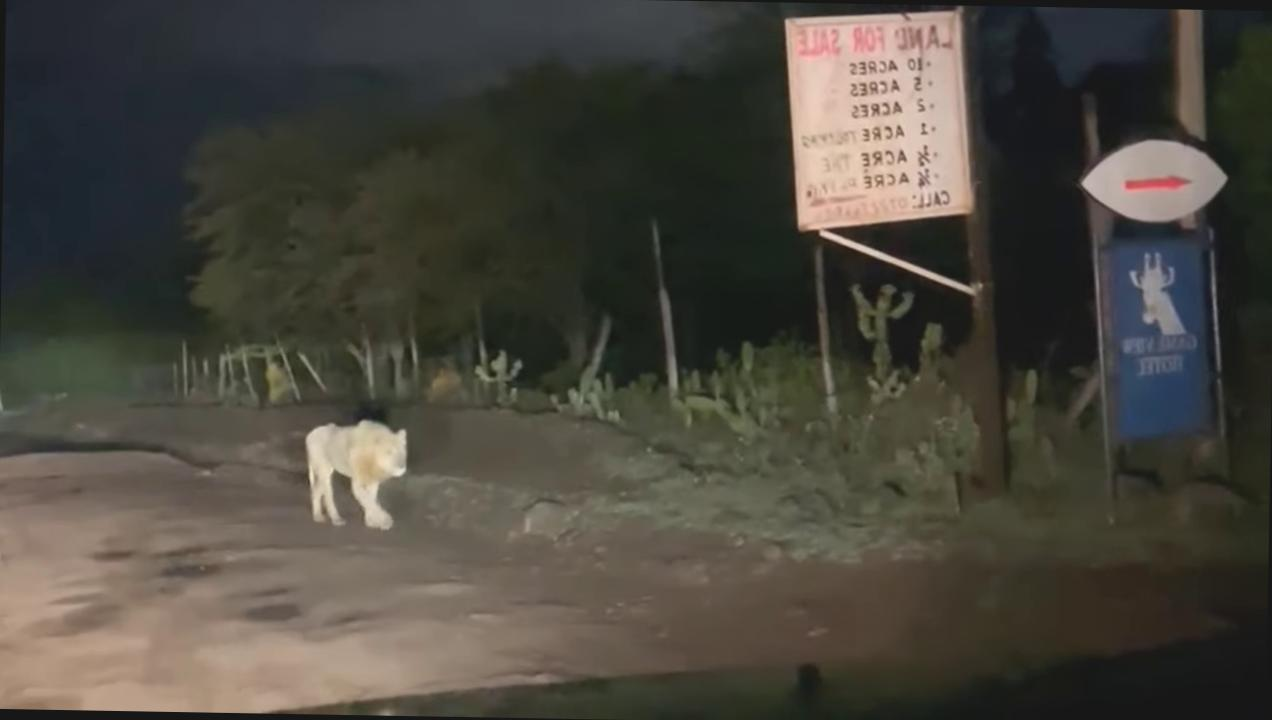lions: (296, 420, 417, 534)
